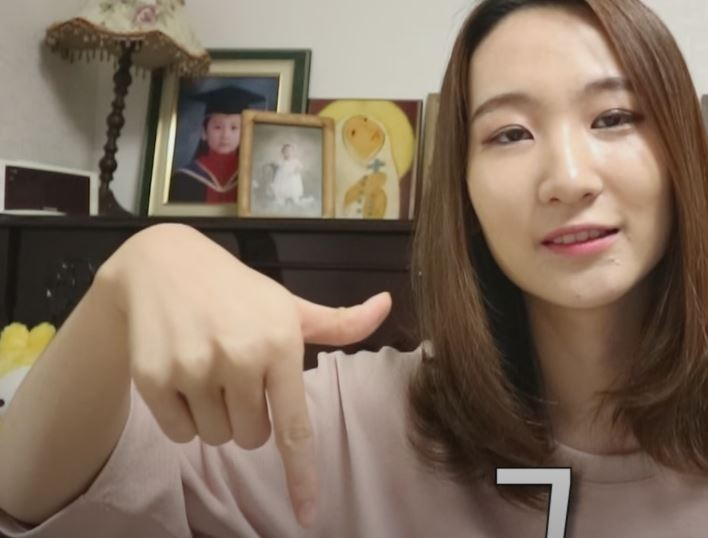기역: (93, 209, 399, 530)
